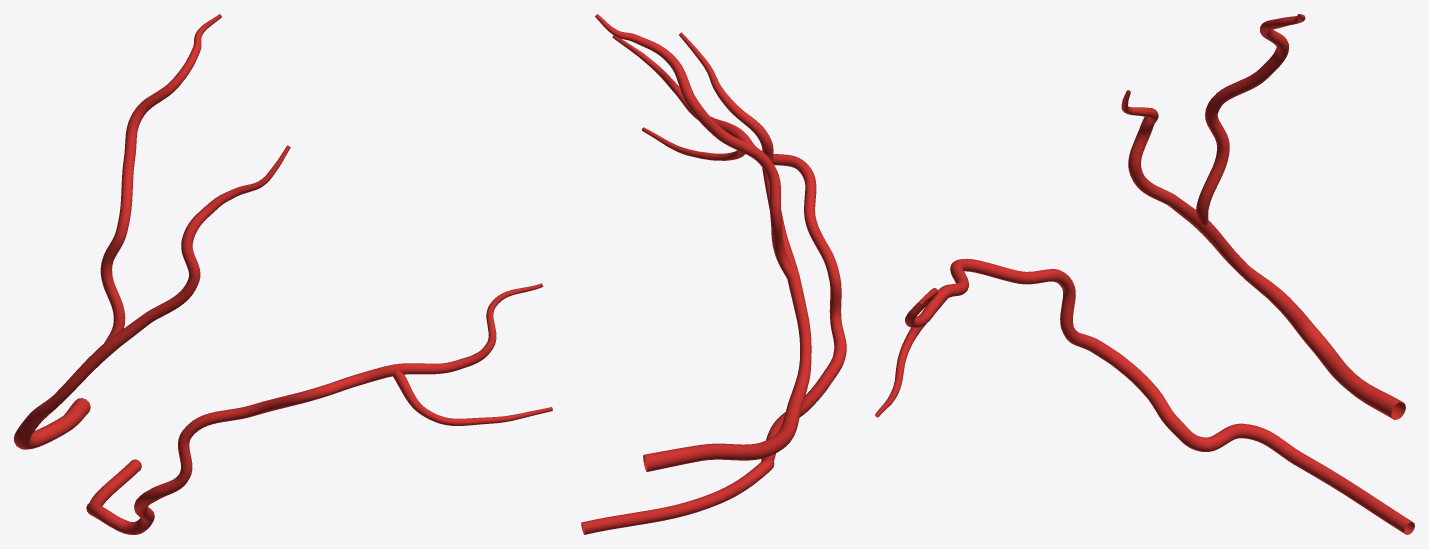
Rendered from circulatorio-prefrontal-artery-r.glb.
3 views of the same model, side by side, from view 1: azimuth 30°, elevation 25°; view 2: azimuth 150°, elevation 25°; view 3: azimuth 270°, elevation 25° (orthographic). The views are drawn at different scales.
Visible parts, largest first — view 1: Prefrontal artery.r, Lateral frontobasal artery.r; view 2: Prefrontal artery.r, Lateral frontobasal artery.r; view 3: Lateral frontobasal artery.r, Prefrontal artery.r.
Boxes of the visible parts, x1,y1,x2,y2 form: Prefrontal artery.r: (14,14,290,449); Lateral frontobasal artery.r: (86,283,552,534); Prefrontal artery.r: (595,14,811,471); Lateral frontobasal artery.r: (581,35,846,534); Lateral frontobasal artery.r: (875,258,1414,534); Prefrontal artery.r: (1121,14,1405,419).
Bounding box in the file's own units: 0.0501 × 0.0652 × 0.0591.
